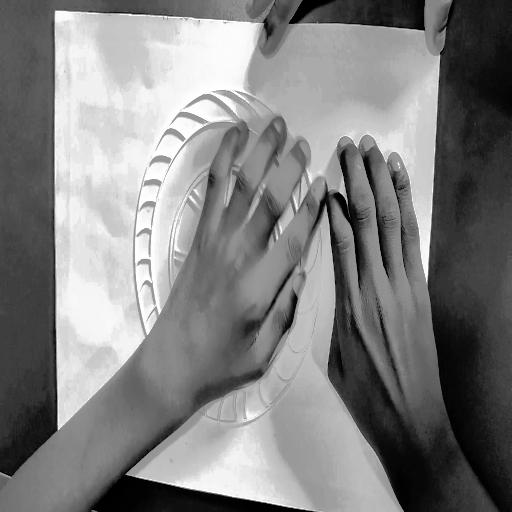bottom_left: (52, 469, 63, 484)
tire: (126, 75, 334, 447)
top_left: (52, 4, 59, 19)
top_right: (437, 21, 447, 37)
